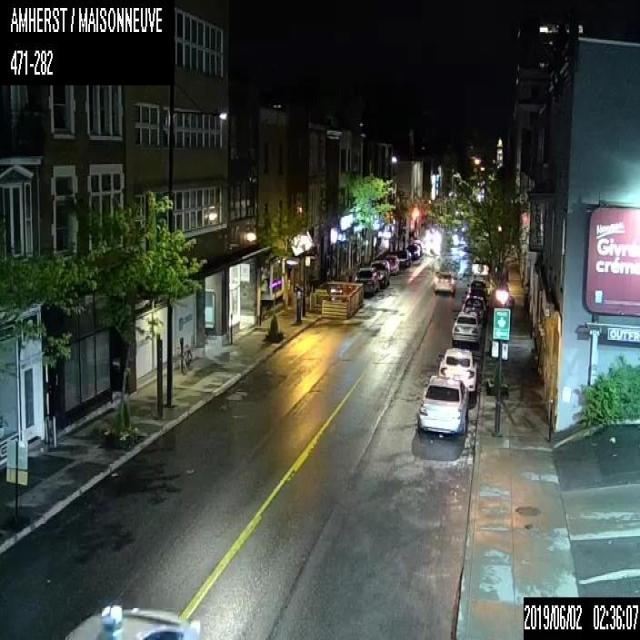vehicle: (62, 602, 204, 638), (416, 375, 469, 436), (437, 348, 479, 394), (450, 311, 484, 344), (353, 267, 378, 295), (461, 292, 486, 317), (370, 259, 390, 286), (432, 272, 455, 294), (466, 279, 487, 298), (383, 254, 399, 274), (393, 248, 410, 266), (405, 242, 420, 258)
